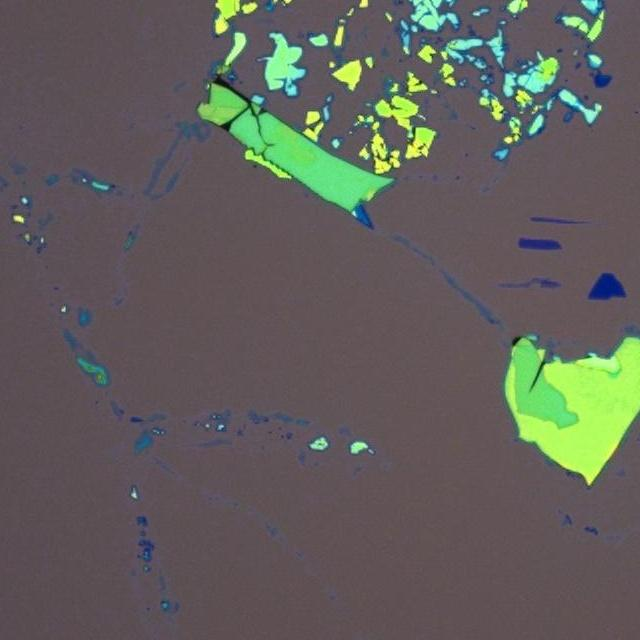monolayer-eWW4: (498, 276, 540, 290), (540, 284, 557, 288)
